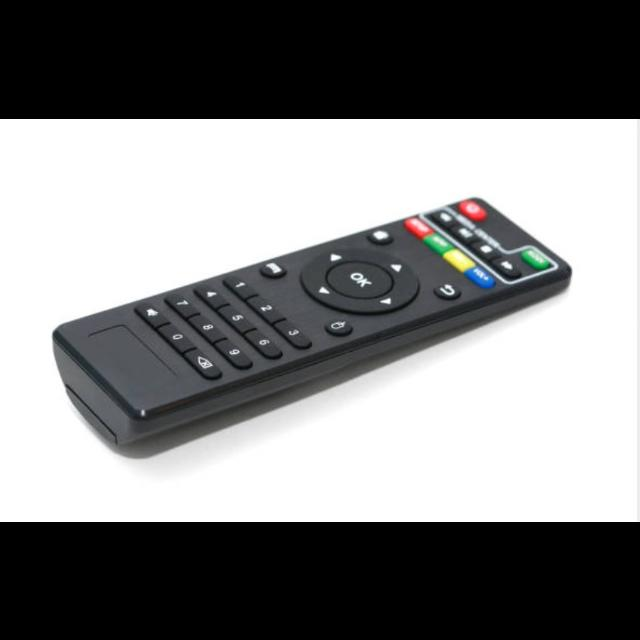TV-Remote-Control: (51, 197, 573, 460)
